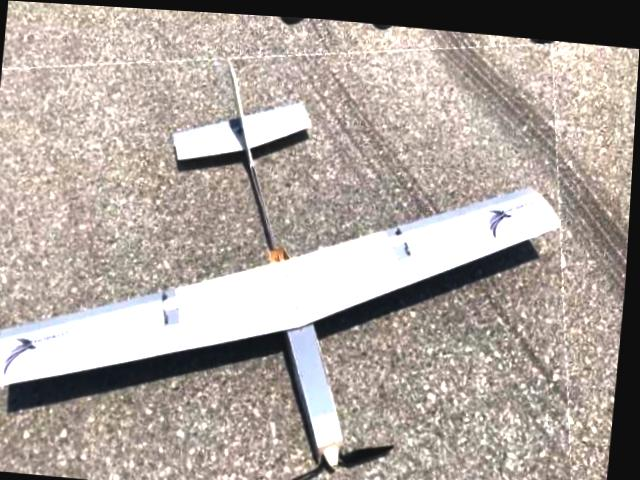insansiz-hava-araci: (0, 11, 598, 480)
